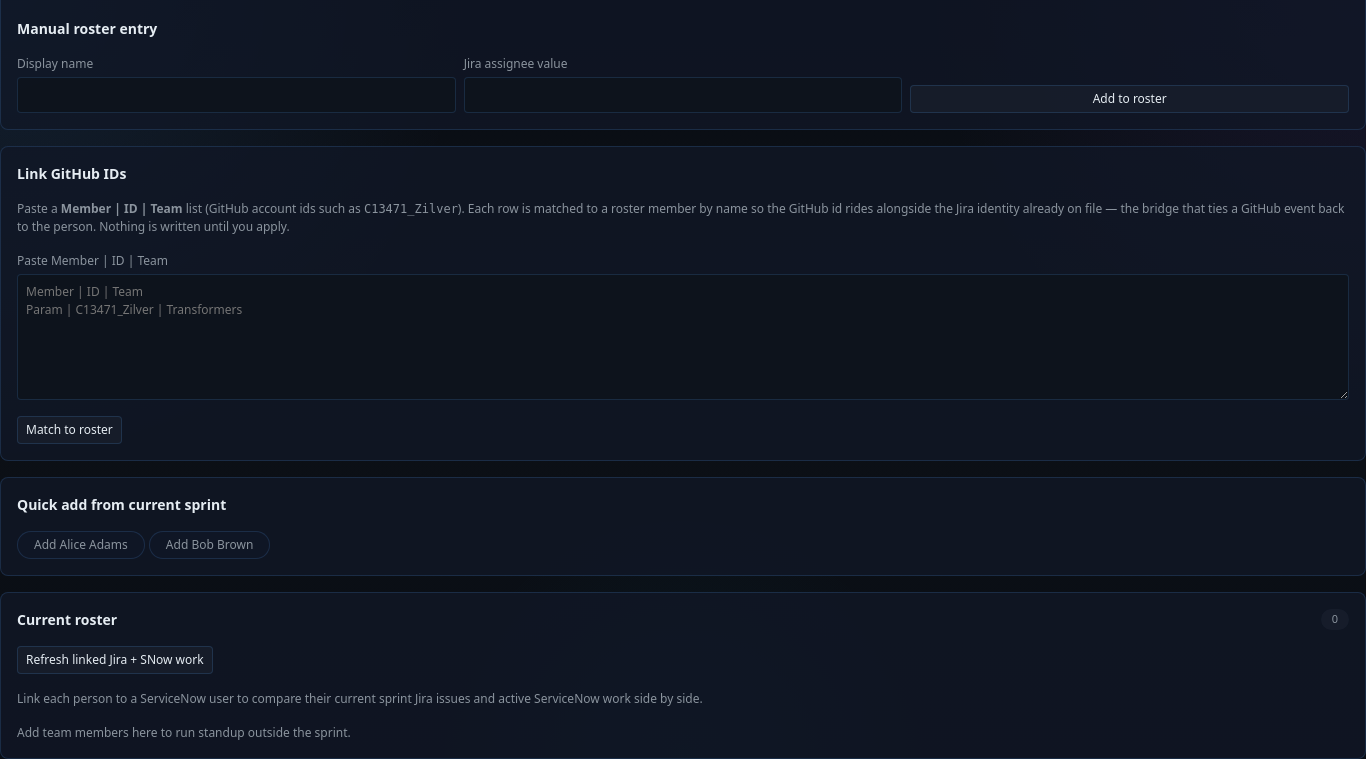
RosterTab › adds sprint assignees to the roster from the quick-pick list
The image size is (1366, 759).
(page scrolled)
Click the button "Add Alice Adams". click: (81, 545)
box: [17,531,145,559]
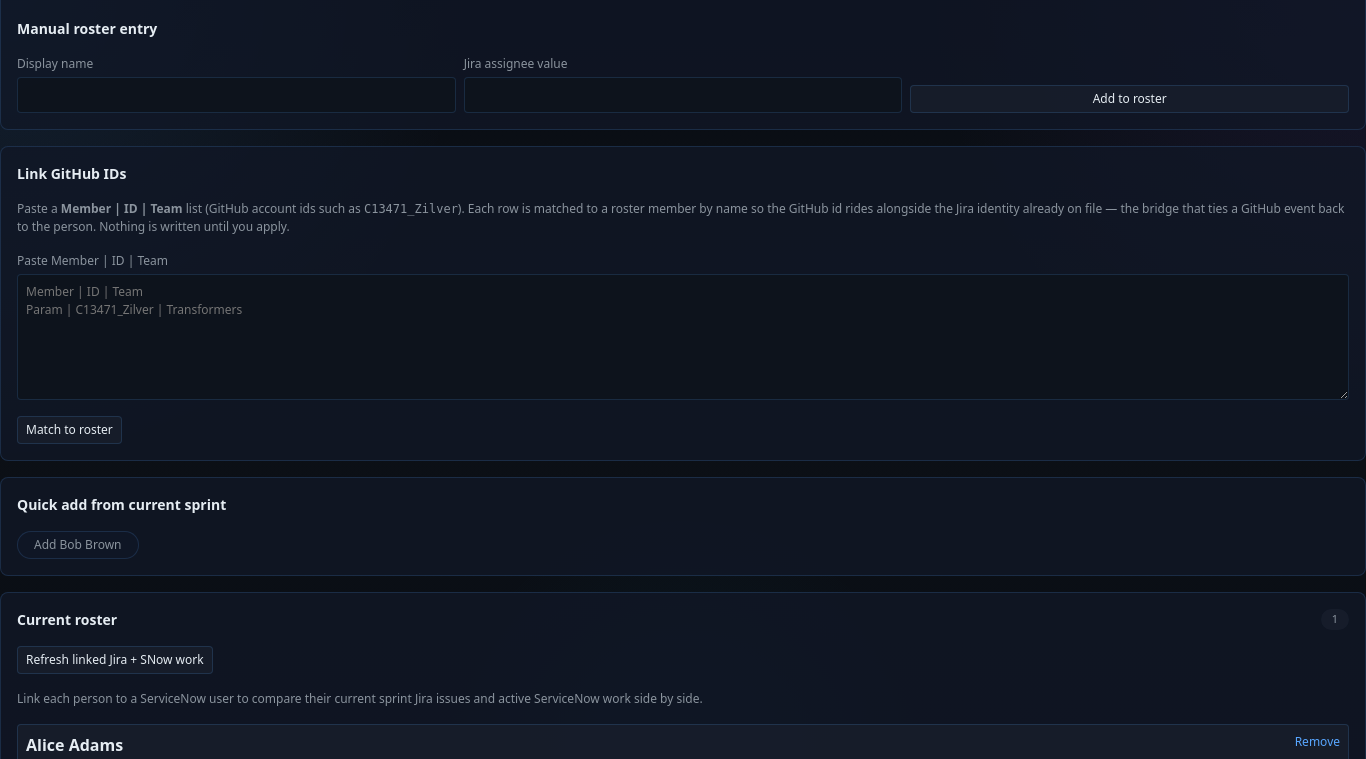
Now the text "Alice Adams" is shown, box [26,734,123,756]
